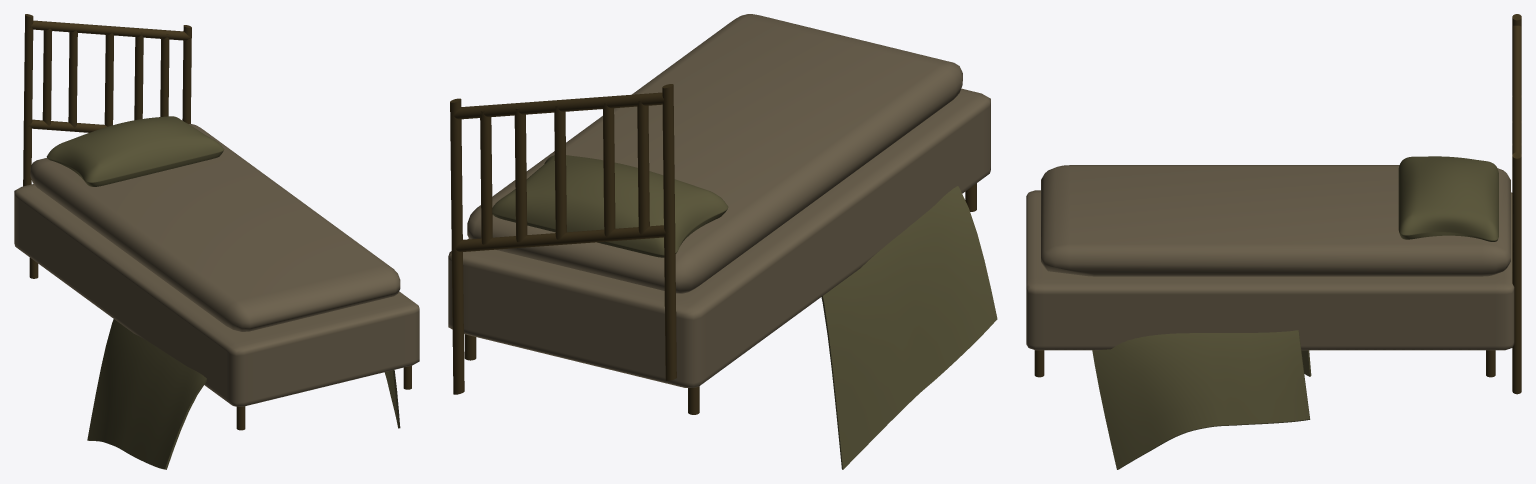
Rendered from bed.fbx.
3 views of the same model, side by side, from view 1: azimuth 30°, elevation 25°; view 2: azimuth 150°, elevation 25°; view 3: azimuth 270°, elevation 25° (orthographic). The views are drawn at different scales.
Parts seen in each view (by area): view 1: ChamferBox001, Box002, Plane002, Cylinder008, ChamferBox002; view 2: ChamferBox001, Box002, Plane002, Cylinder008, ChamferBox002; view 3: ChamferBox001, Box002, Plane002, ChamferBox002, Cylinder008.
Boxes of the visible parts, left/top/right/bottom form: ChamferBox001: left=30, top=124, right=400, bottom=331; Box002: left=14, top=184, right=419, bottom=406; Plane002: left=87, top=319, right=400, bottom=469; Cylinder008: left=23, top=14, right=191, bottom=186; ChamferBox002: left=46, top=116, right=224, bottom=186; ChamferBox001: left=467, top=14, right=962, bottom=293; Box002: left=448, top=88, right=990, bottom=387; Plane002: left=821, top=186, right=997, bottom=469; Cylinder008: left=450, top=84, right=676, bottom=394; ChamferBox002: left=492, top=155, right=728, bottom=257; ChamferBox001: left=1041, top=165, right=1510, bottom=276; Box002: left=1026, top=190, right=1514, bottom=350; Plane002: left=1092, top=330, right=1311, bottom=469; ChamferBox002: left=1398, top=156, right=1498, bottom=241; Cylinder008: left=1512, top=14, right=1521, bottom=394.
Bounding box in the file's own units: 93.8 × 121 × 143.
